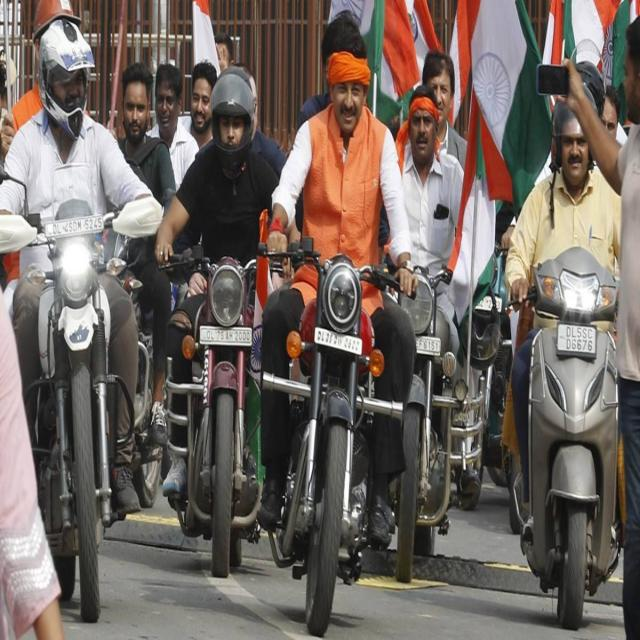bike: (0, 154, 166, 628), (255, 227, 416, 639), (507, 220, 621, 628)
